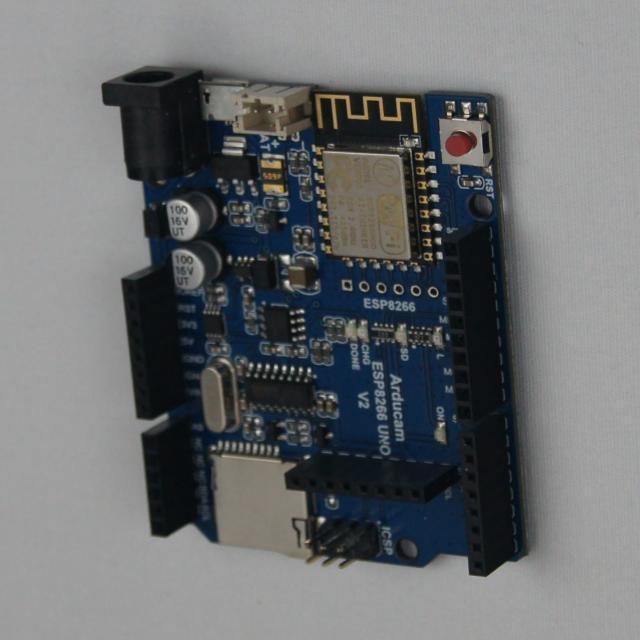Arduino Uno Camera Shield: (103, 69, 524, 576)
